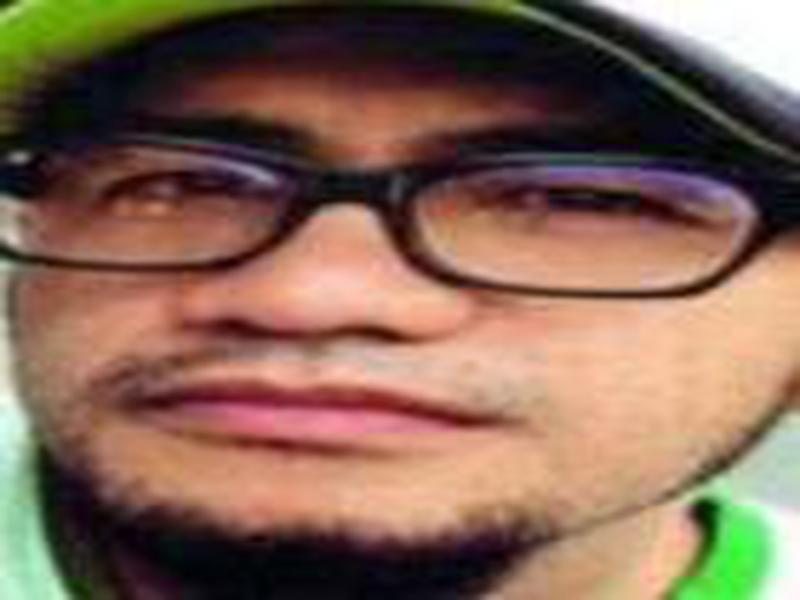without_mask: (8, 55, 799, 559)
